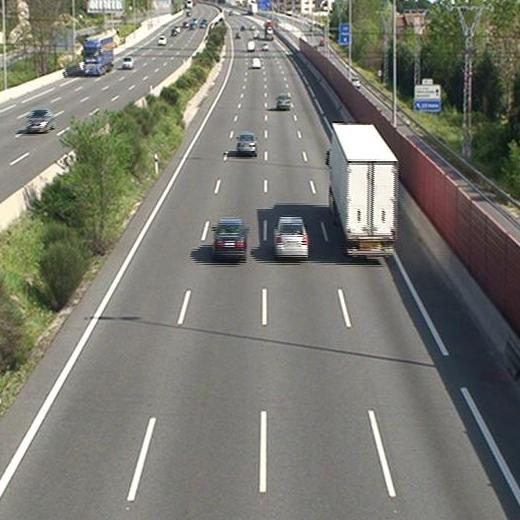car: (213, 218, 248, 258), (274, 217, 308, 258), (236, 132, 256, 154), (276, 92, 290, 109), (250, 57, 261, 68)
truck: (329, 124, 396, 258)
